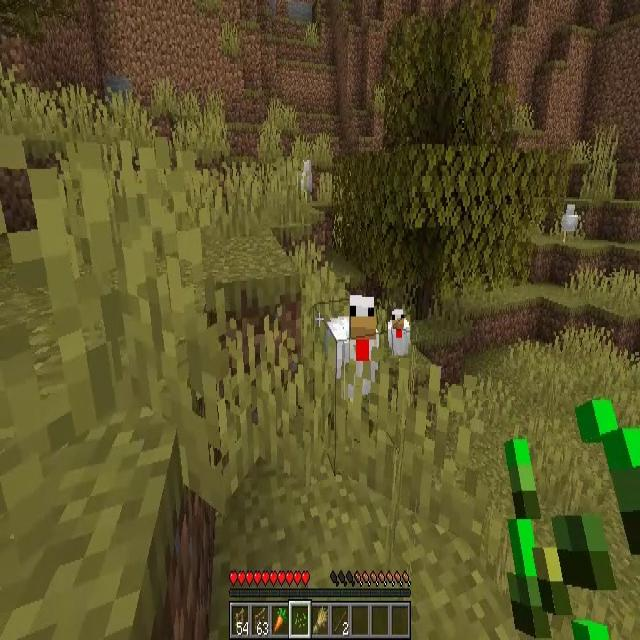duck: (327, 296, 379, 406), (387, 306, 411, 358), (561, 202, 579, 244), (298, 158, 311, 198)
